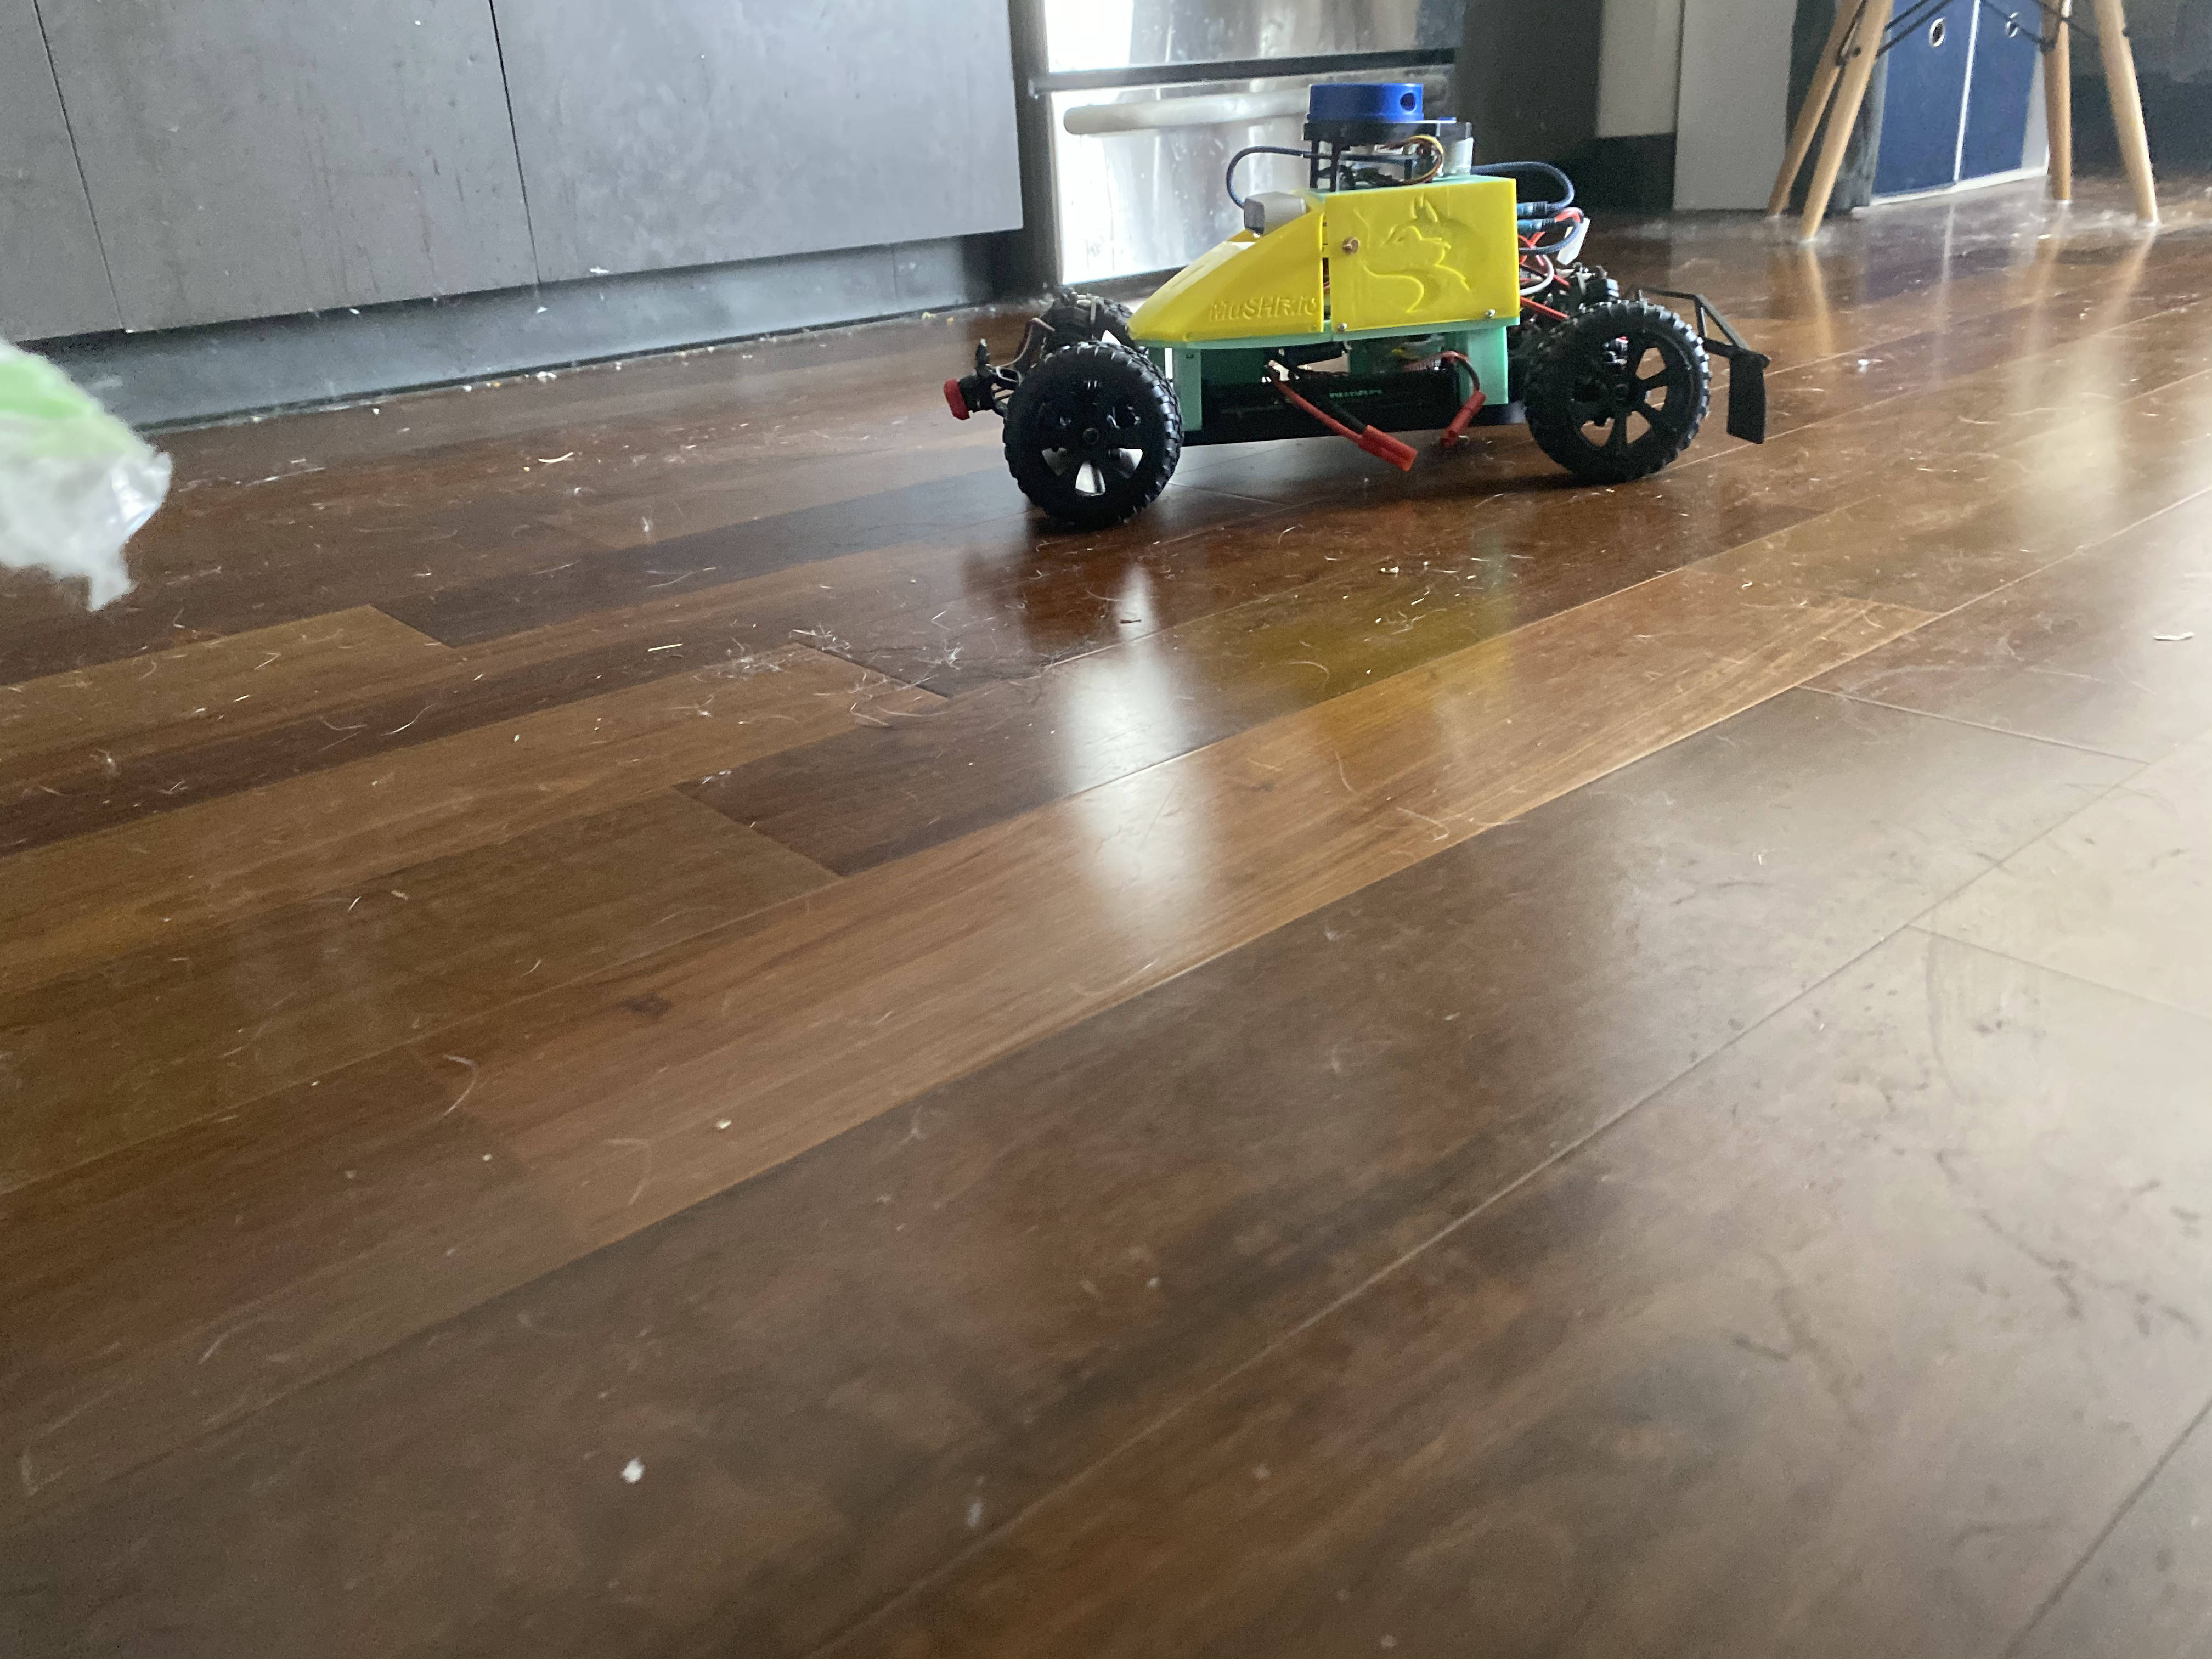mushr_car: (932, 70, 1789, 559)
